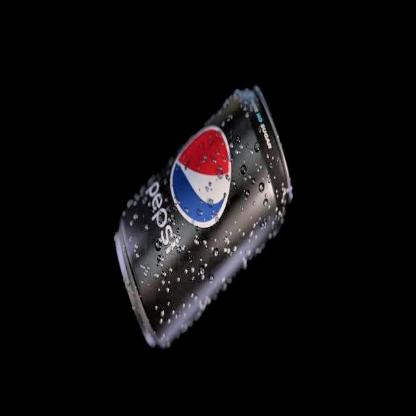Can: (96, 65, 310, 366)
